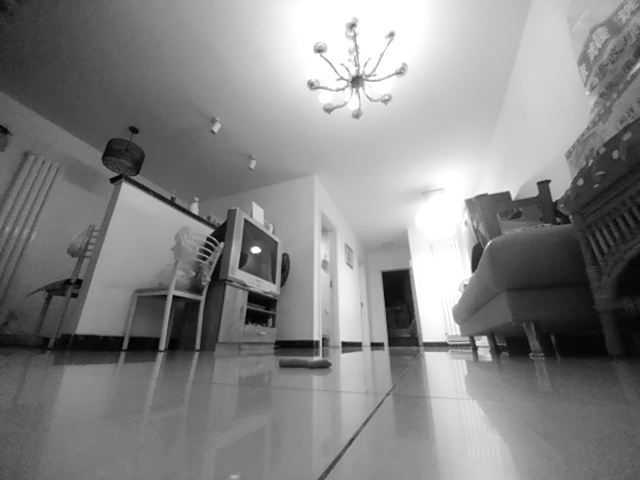pet feces: (278, 358, 332, 373)
